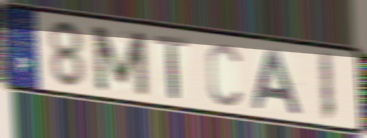8: (47, 19, 89, 91)
A: (251, 48, 305, 117)
C: (205, 40, 243, 108)
I: (317, 50, 336, 125)
M: (89, 23, 151, 99)
T: (153, 33, 190, 102)
